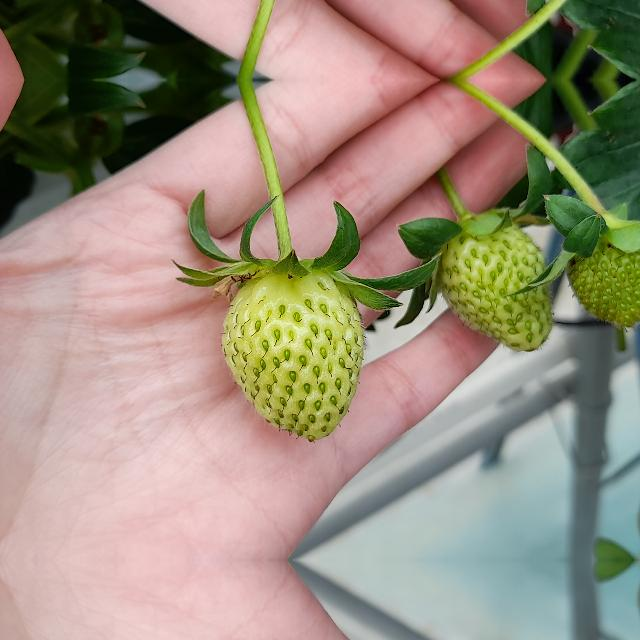Health_25: (220, 271, 364, 443), (436, 222, 560, 354), (566, 224, 640, 336)
